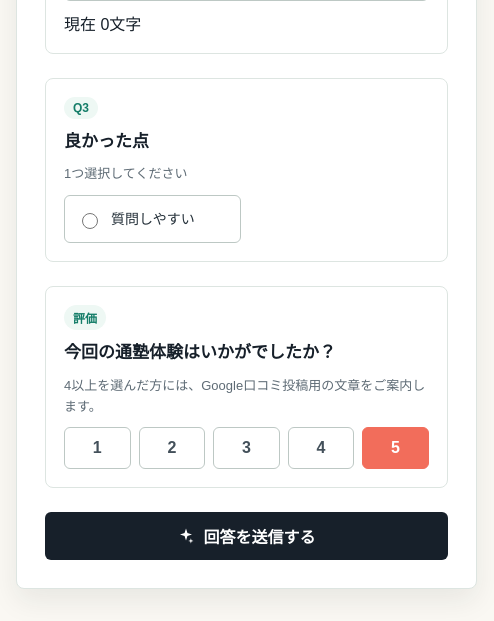
Test: public respondent workflow › displays unselected fixed Q1 before legacy questions and rejects missing identity without any HTTP request
This screenshot has width=494, height=621.
(page scrolled)
Click the button "回答を送信する".
click(246, 536)  # box [45,512,448,560]
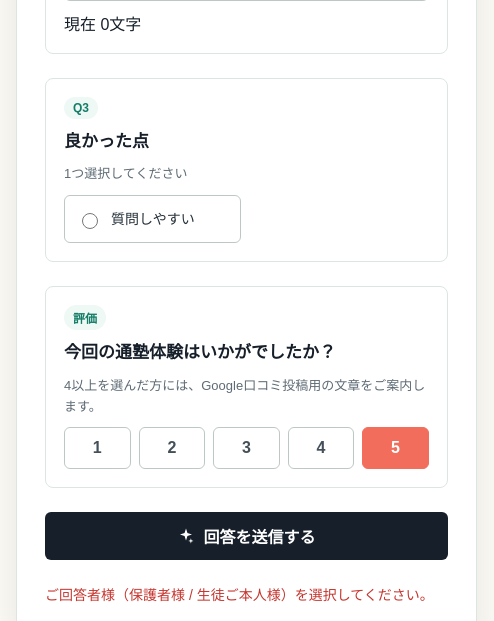
Expected: the text "ご回答者様（保護者様 / 生徒ご本人様）を選択してください。" is shown, [45,584,448,607]
